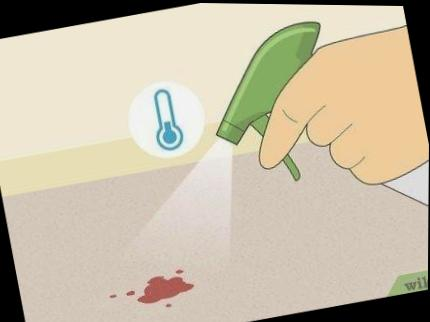Fire: (136, 274, 194, 303)
